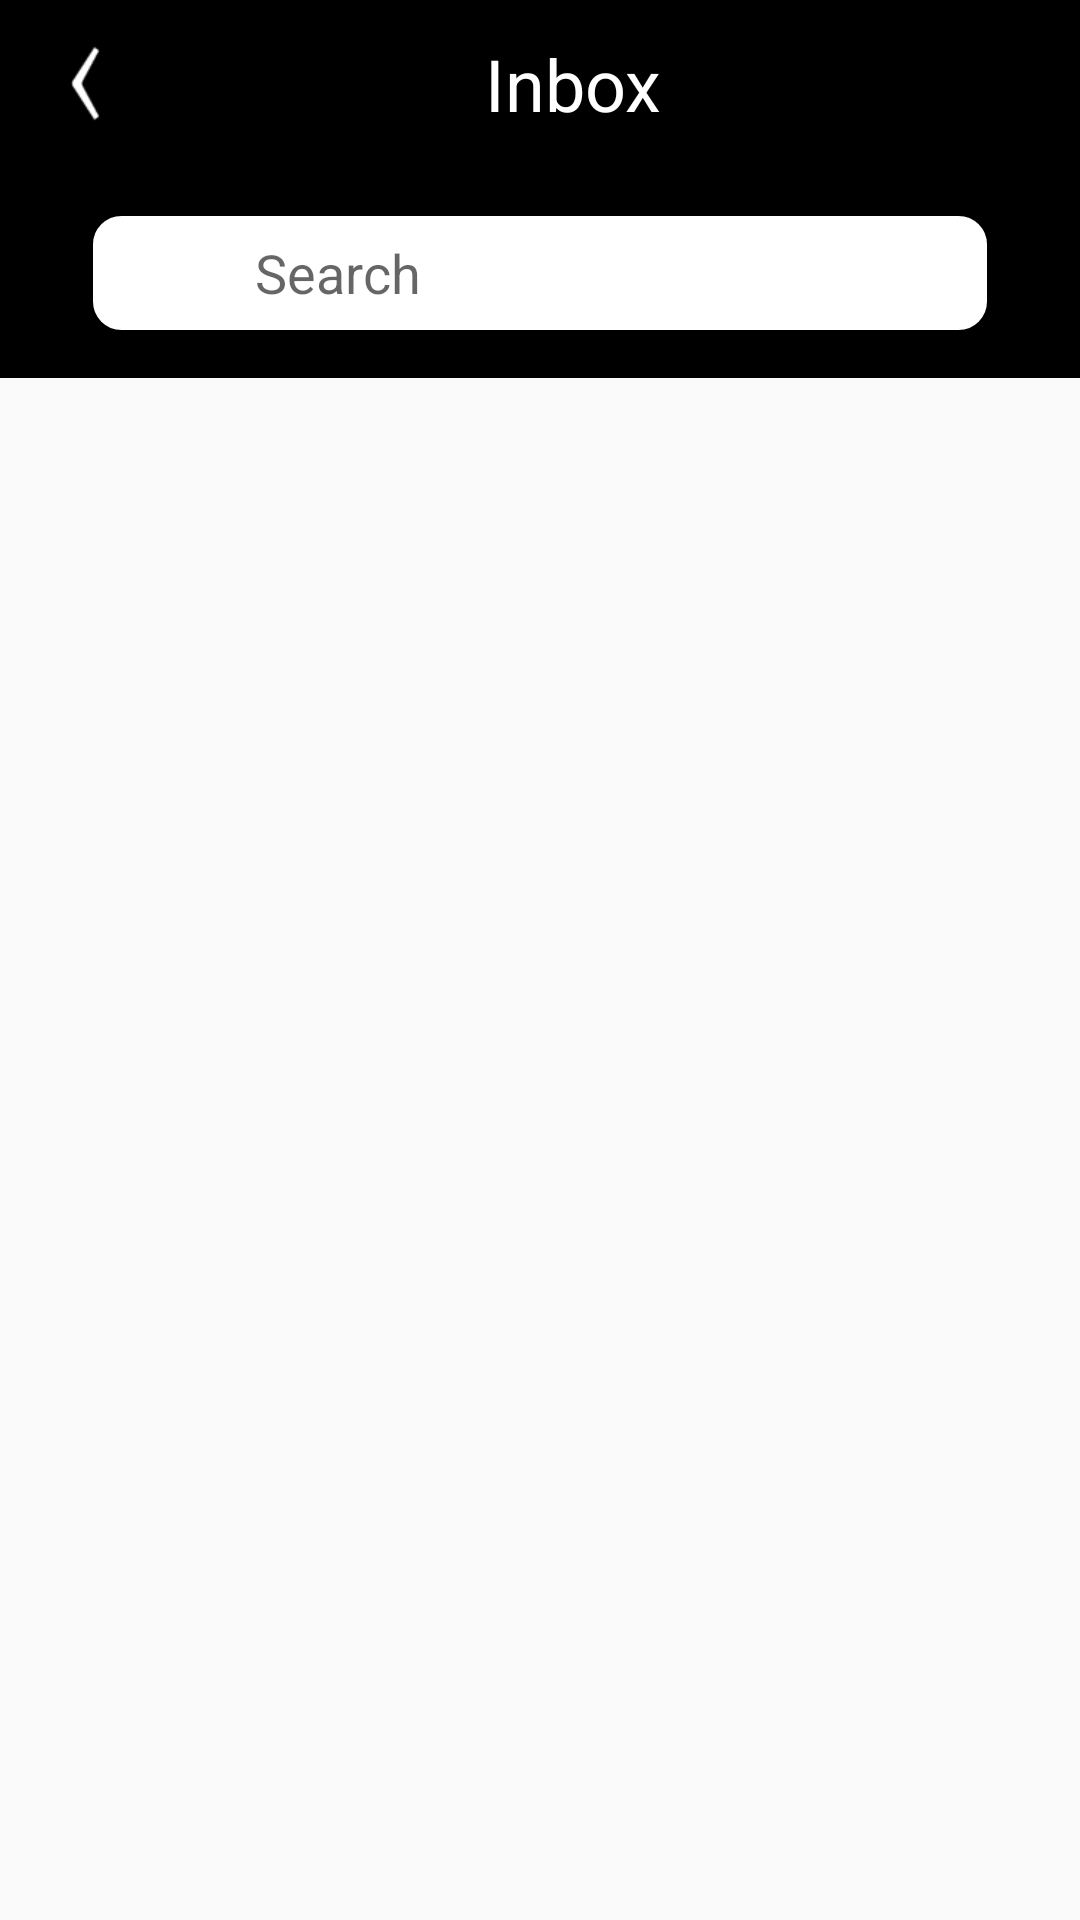

Icon bounding boxes for this 1080 × 1920 phone screenshot, format (x1, y1, x2, y2):
backbutton: (71, 47, 99, 120)
